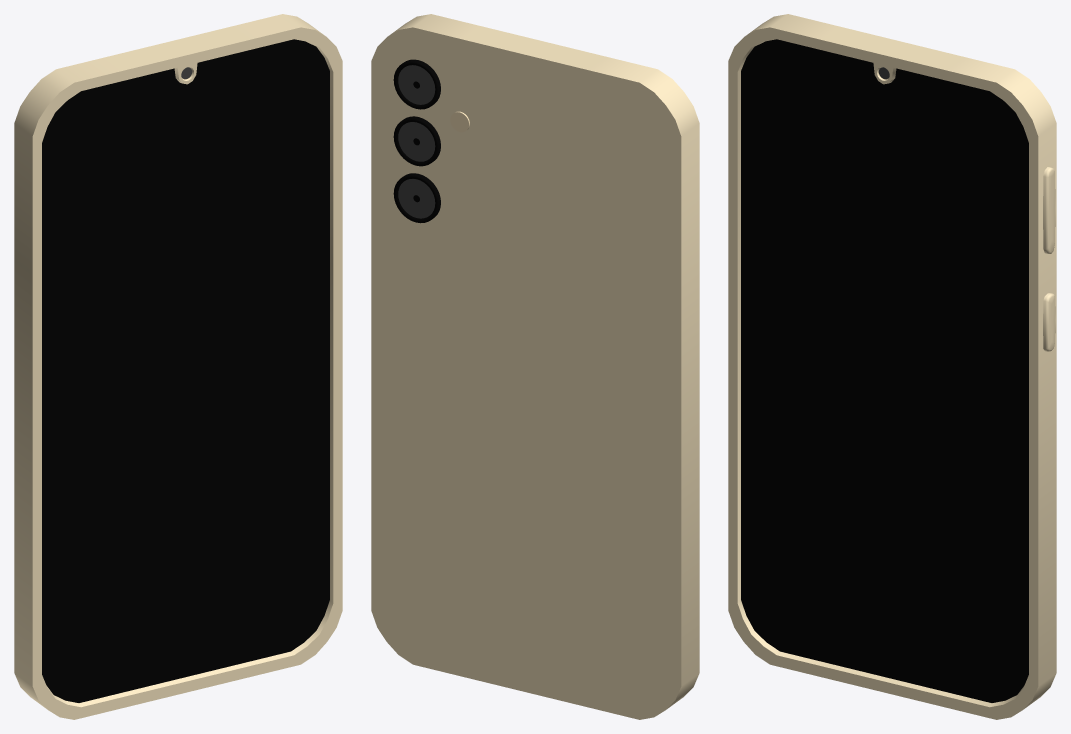
File: Reject1.fbx
3 renders of one model, left to right at view 1: azimuth 30°, elevation 25°; view 2: azimuth 150°, elevation 25°; view 3: azimuth 330°, elevation 25°, orthographic.
Visible parts, largest first — view 1: reject; view 2: reject; view 3: reject.
Boxes of the visible parts, x1,y1,x2,y2 form: reject: (14,14,342,719); reject: (371,14,699,719); reject: (728,14,1056,719).
Bounding box in the file's own units: 1.13 × 2.18 × 0.1292.
